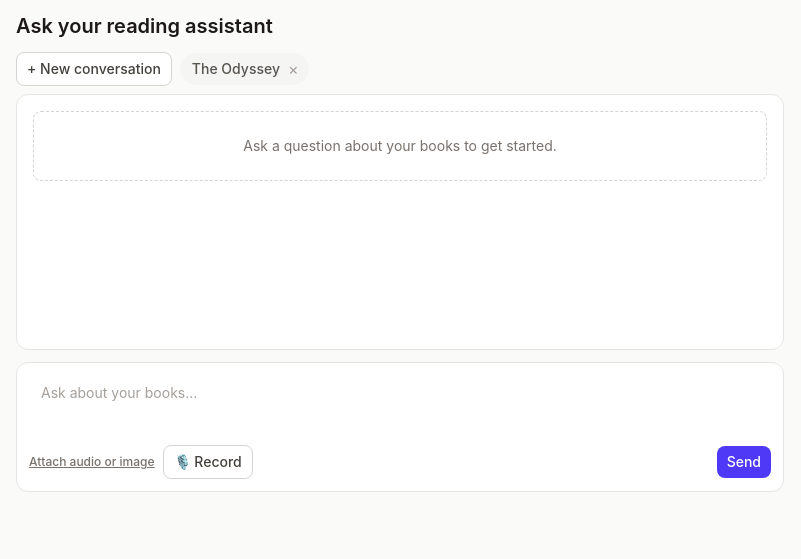
Test: Chat › shows an error when deleting a conversation fails
Expected: the button "The Odyssey" is shown, left=192, top=59, right=280, bottom=79
Click the button named "delete conversation": click(293, 69) left=284, top=57, right=303, bottom=81
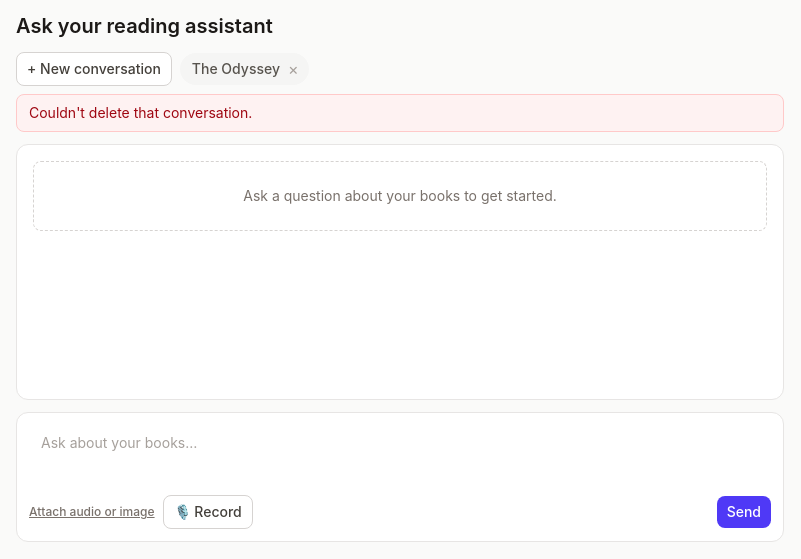
Expected: the message shows "Couldn't delete", left=29, top=104, right=252, bottom=121
